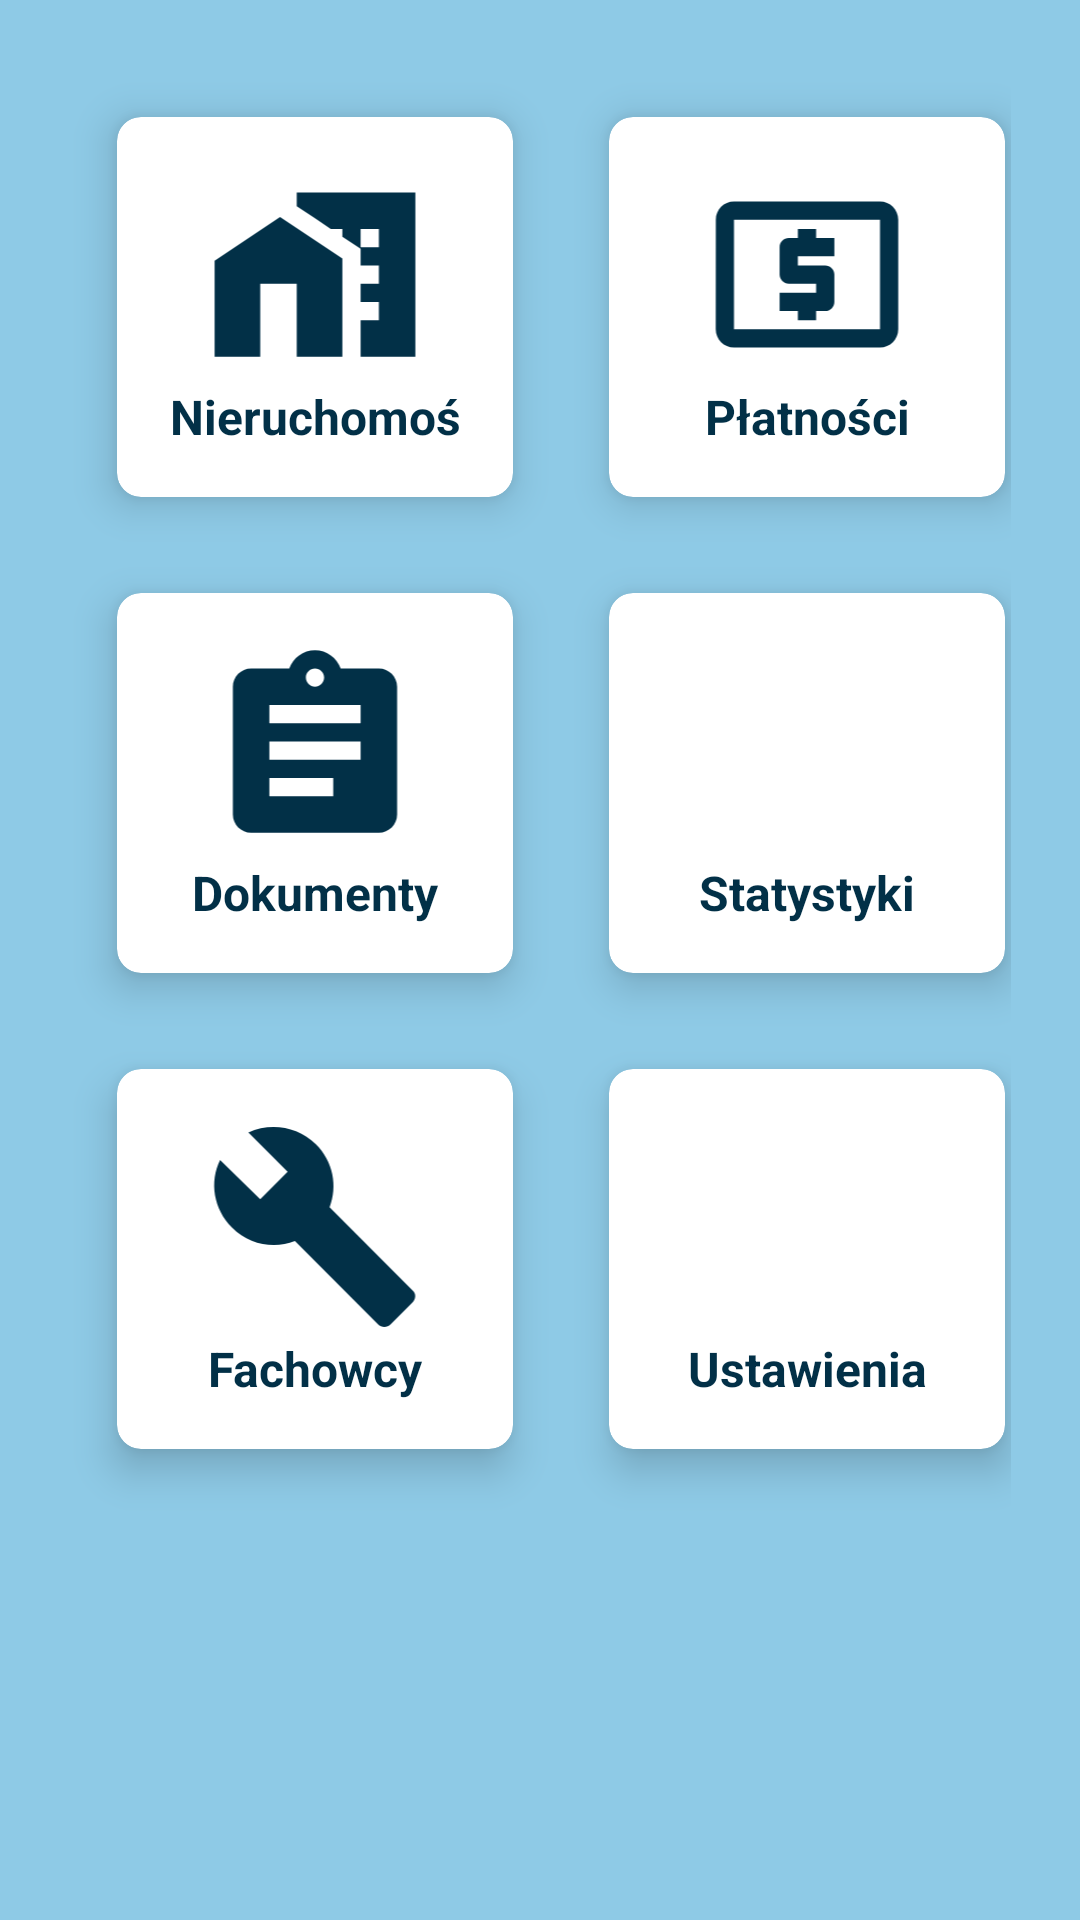

Screen size 1080×1920. Icon name, then its box in pixels as (x1, y1, x2, y2):
apartaments: (214, 192, 416, 357)
repairs: (213, 1127, 416, 1327)
